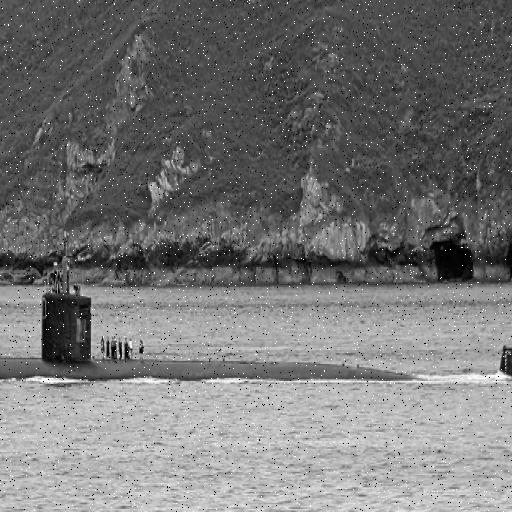submarine: (1, 230, 512, 384)
